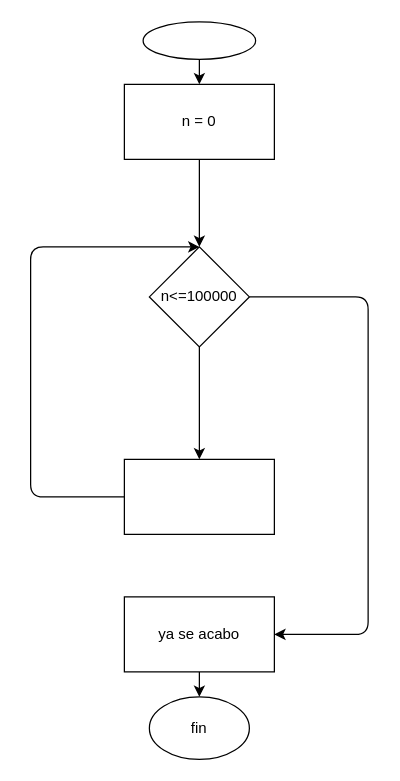
This 400x781 diagram has some shape labels left out. The centre of each missing label's shape, as x and y in pixels:
"inicio" belongs at pixel 199 40.
"print(n) n+=1" belongs at pixel 198 496.
